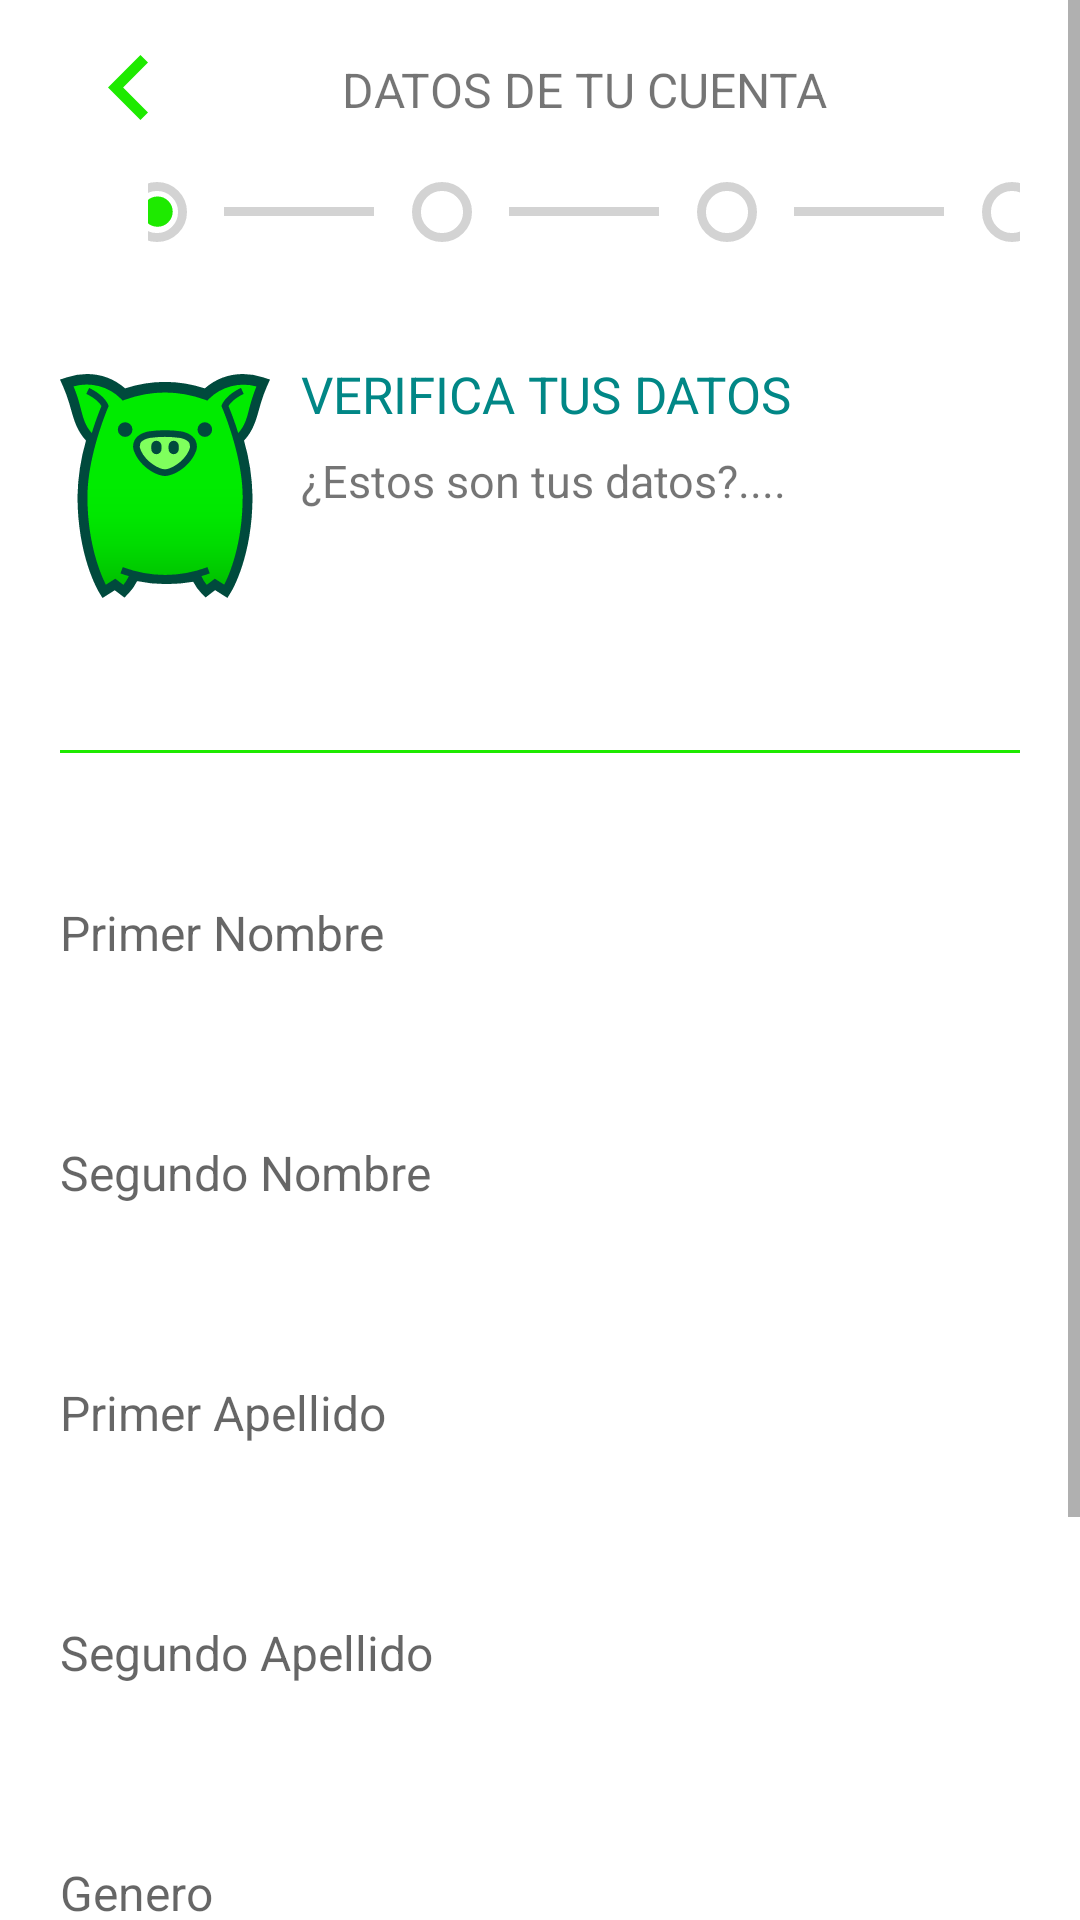

Point at icon controls on the screen. Image size 1080w x 1920h, points as [x,y].
back: [128,87]
